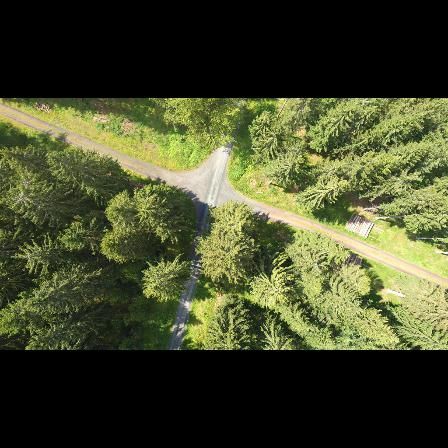Sick: (6, 184, 37, 214), (11, 167, 41, 197)
